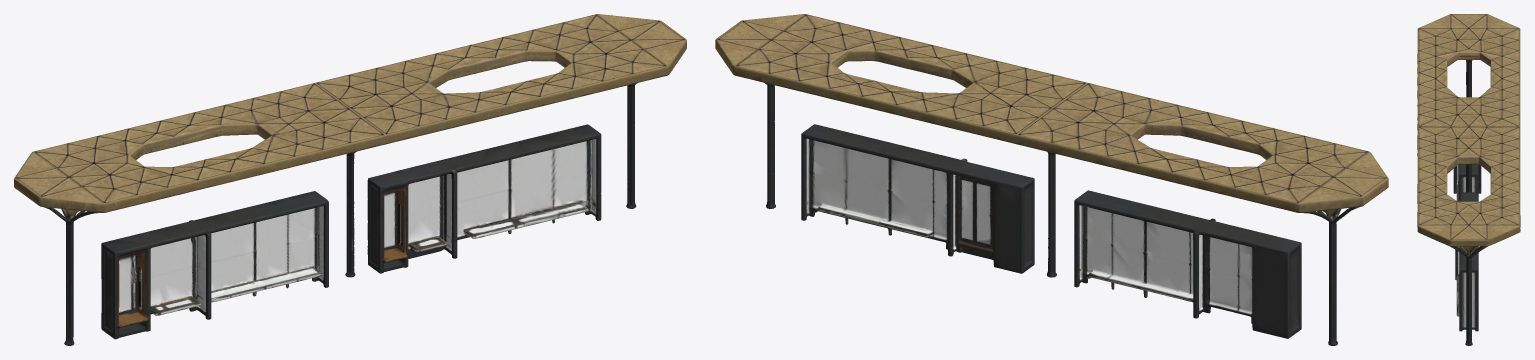
Rendered from tramstop.glb.
3 views of the same model, side by side, from view 1: azimuth 30°, elevation 25°; view 2: azimuth 150°, elevation 25°; view 3: azimuth 270°, elevation 25° (orthographic). The views are drawn at different scales.
Parts seen in each view (by area): view 1: mesh_node; view 2: mesh_node; view 3: mesh_node.
Boxes of the visible parts, left/top/right/bottom form: mesh_node: left=14, top=14, right=686, bottom=345; mesh_node: left=715, top=14, right=1388, bottom=345; mesh_node: left=1417, top=14, right=1520, bottom=345.
Bounding box in the file's own units: 1.9 × 0.4701 × 0.366.
Materials: 1 (1 with a texture image).
